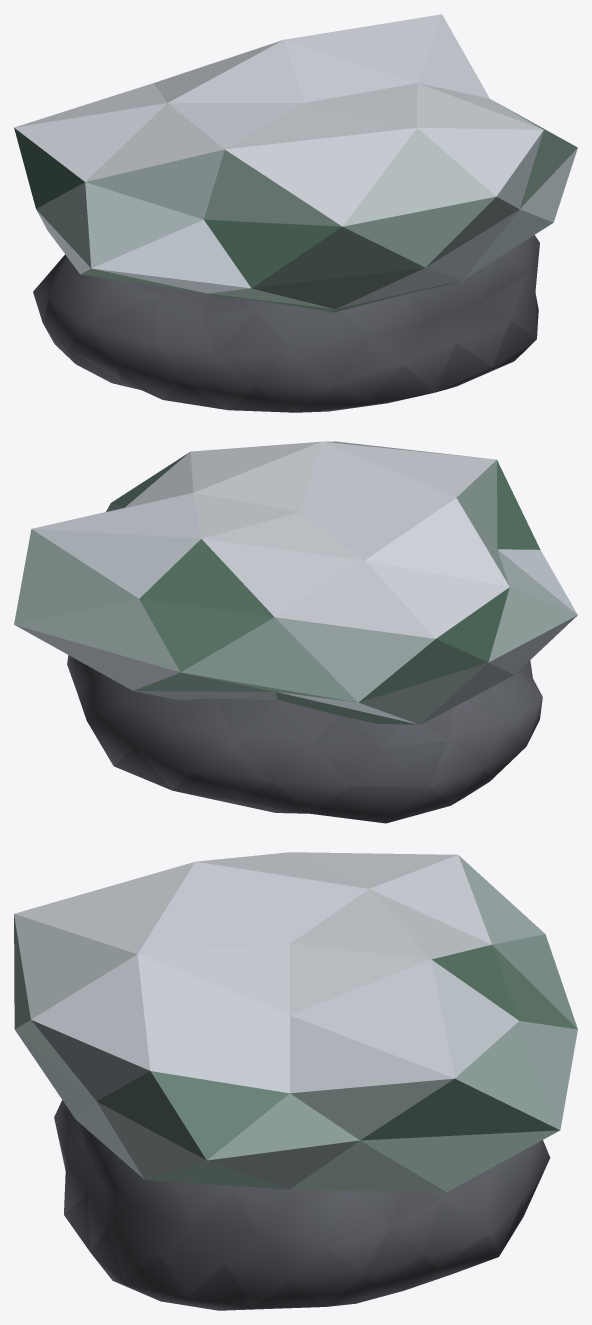
Rendered from ice_moss.glb.
3 views of the same model, one above another, from view 1: azimuth 30°, elevation 25°; view 2: azimuth 150°, elevation 25°; view 3: azimuth 270°, elevation 25° (orthographic). The views are drawn at different scales.
Parts seen in each view (by area): view 1: ice_moss; view 2: ice_moss; view 3: ice_moss.
Boxes of the visible parts, x1,y1,x2,y2 form: ice_moss: [14, 14, 577, 412]; ice_moss: [14, 441, 577, 823]; ice_moss: [14, 852, 577, 1310].
Bounding box in the file's own units: 0.3247 × 0.1567 × 0.2867.
